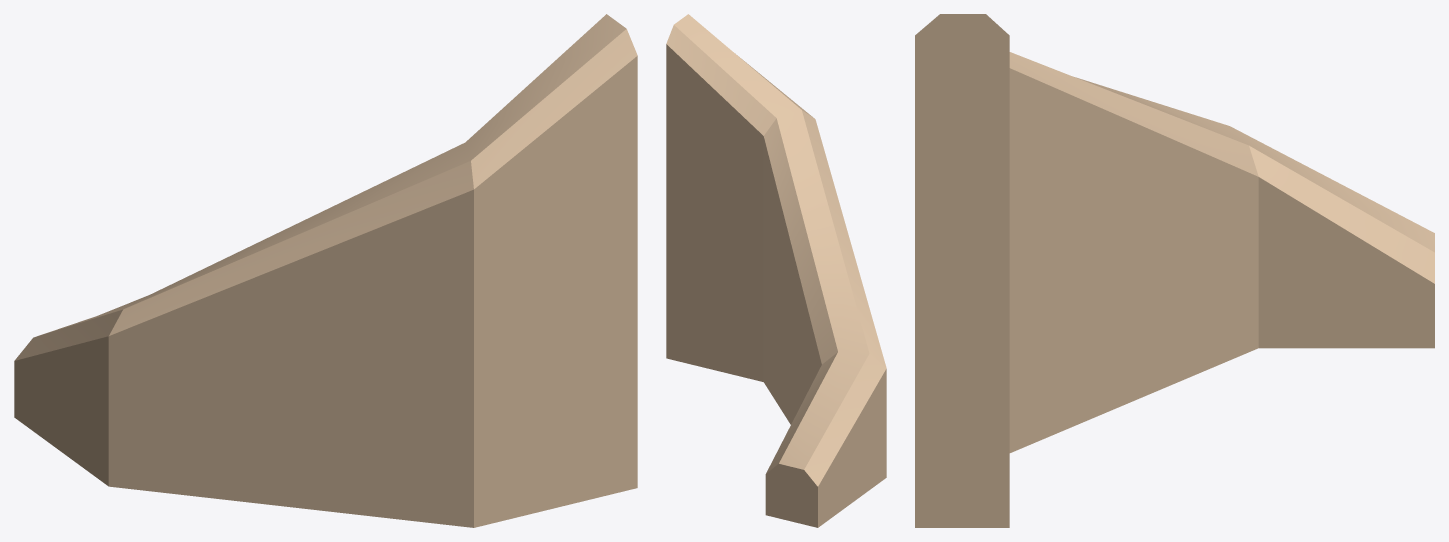
Rendered from Stairs_Coping_Ramp_Curved_Small.fbx.
3 renders of one model, left to right at view 1: azimuth 30°, elevation 25°; view 2: azimuth 150°, elevation 25°; view 3: azimuth 270°, elevation 25°, orthographic. The views are drawn at different scales.
Visible parts, largest first — view 1: object1; view 2: object1; view 3: object1.
Boxes of the visible parts, x1,y1,x2,y2 form: object1: (14,14,637,527); object1: (666,14,886,527); object1: (915,14,1434,527).
Size of the model in its own units: 1.1 by 1.2 by 1.1.
